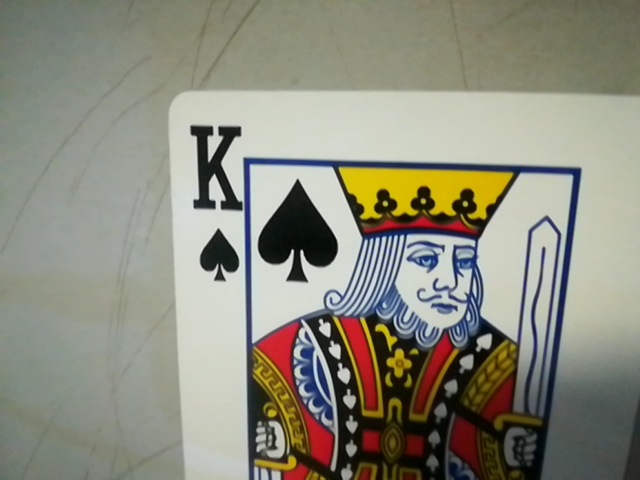ht k: (181, 110, 249, 291)
